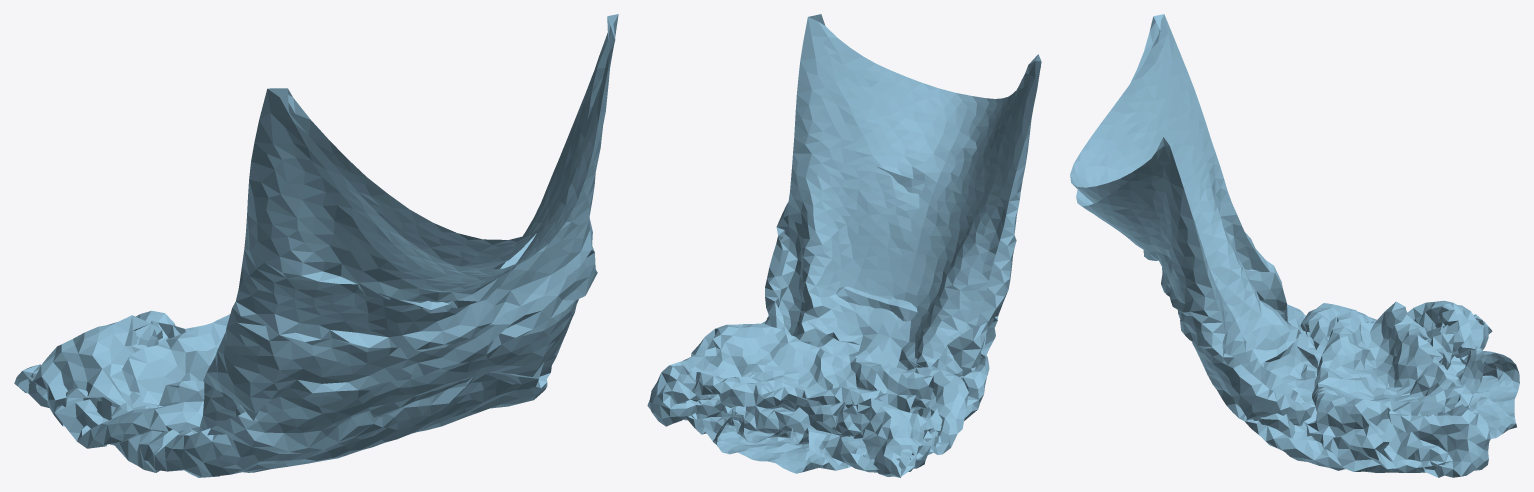
File: frame_08.glb
3 renders of one model, left to right at view 1: azimuth 30°, elevation 25°; view 2: azimuth 150°, elevation 25°; view 3: azimuth 270°, elevation 25°, orthographic. The views are drawn at different scales.
Visible parts, largest first — view 1: frame_08.obj; view 2: frame_08.obj; view 3: frame_08.obj.
Part boxes in pixels (box(x1,y1,x2,y2)): frame_08.obj: box(14, 14, 618, 477); frame_08.obj: box(647, 14, 1041, 477); frame_08.obj: box(1070, 14, 1519, 477).
Size of the model in its own units: 0.9352 by 1.05 by 1.25.
